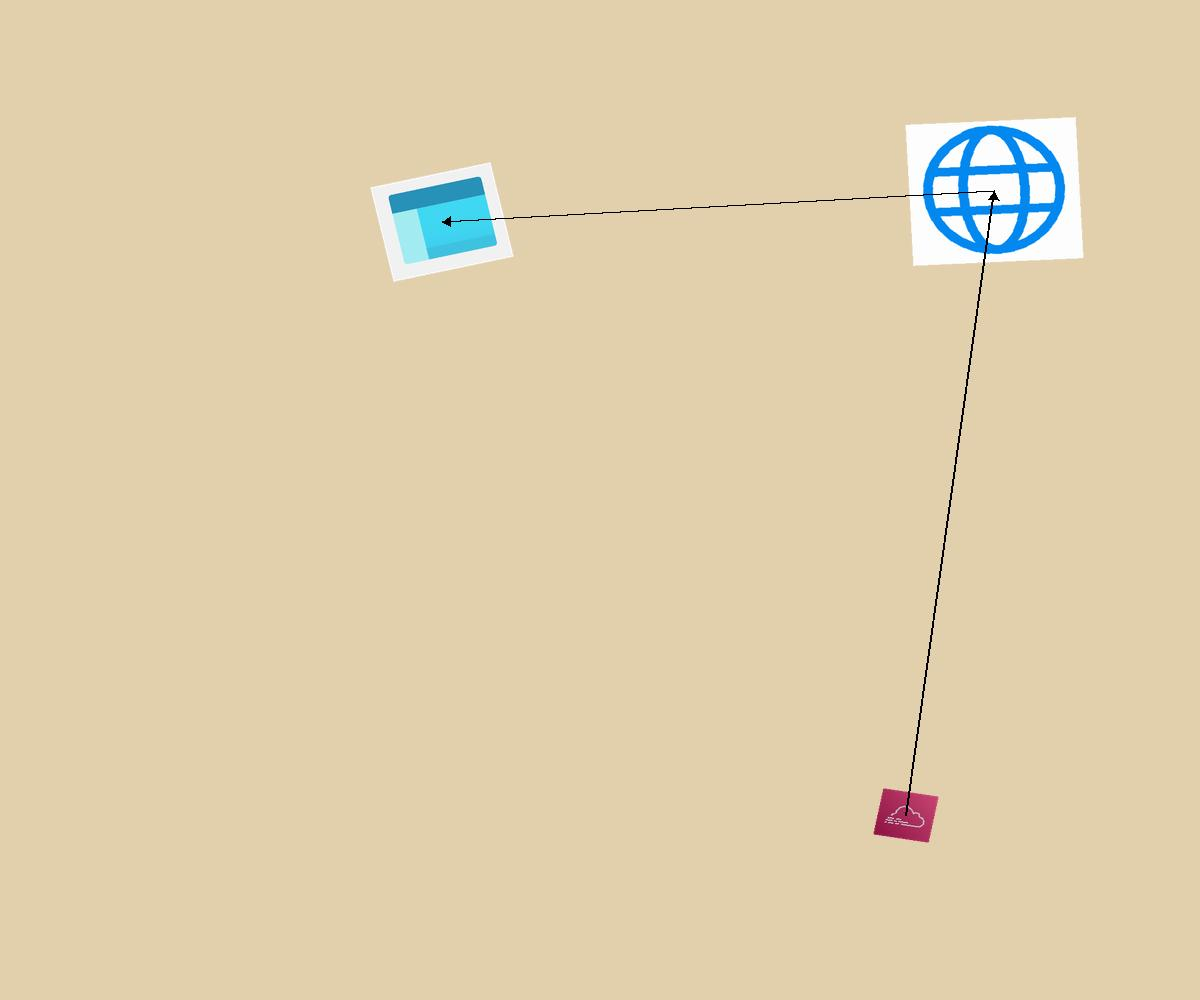AWS-CloudTrail: (873, 788, 939, 843)
Azure_http: (905, 117, 1084, 266)
Azure_management-portal: (370, 162, 514, 282)
